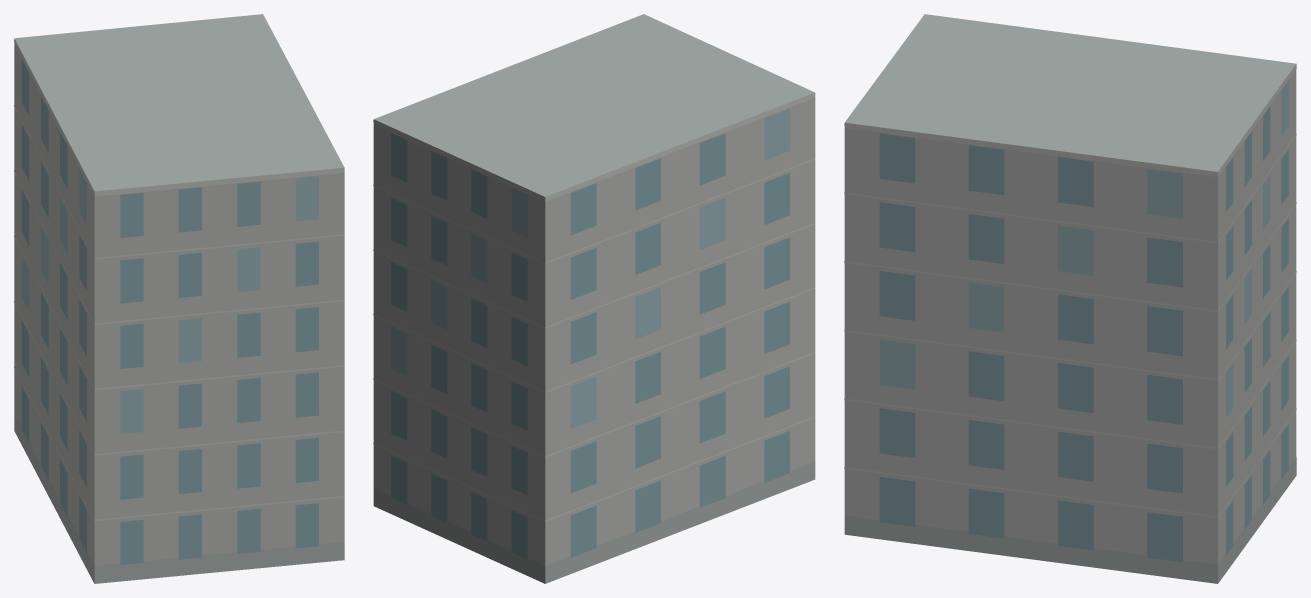
File: survey-upis-32529641.glb
The picture shows the model from 3 angles, left to right: view 1: azimuth 30°, elevation 25°; view 2: azimuth 150°, elevation 25°; view 3: azimuth 270°, elevation 25°; orthographic projection. The views are drawn at different scales.
Parts seen in each view (by area): view 1: survey-upis-32529641.tmp; view 2: survey-upis-32529641.tmp; view 3: survey-upis-32529641.tmp.
Part boxes in pixels (x1,y1,x2,y2): survey-upis-32529641.tmp: (14,14,344,583); survey-upis-32529641.tmp: (373,14,815,583); survey-upis-32529641.tmp: (844,14,1296,583).
Size of the model in its own units: 15.19 by 18.45 by 18.37.
